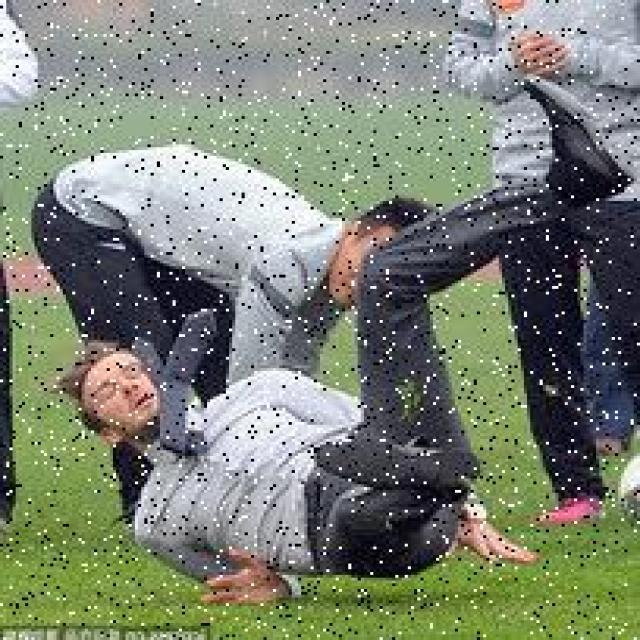fall: (57, 328, 556, 600)
